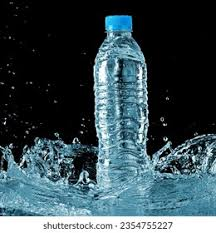Botella: (94, 16, 146, 184)
